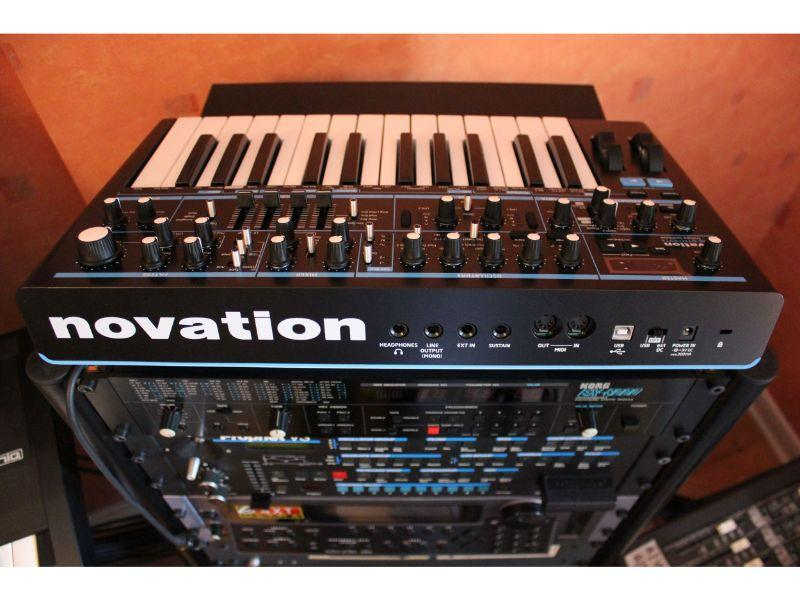synthesizer: (32, 104, 773, 385)
